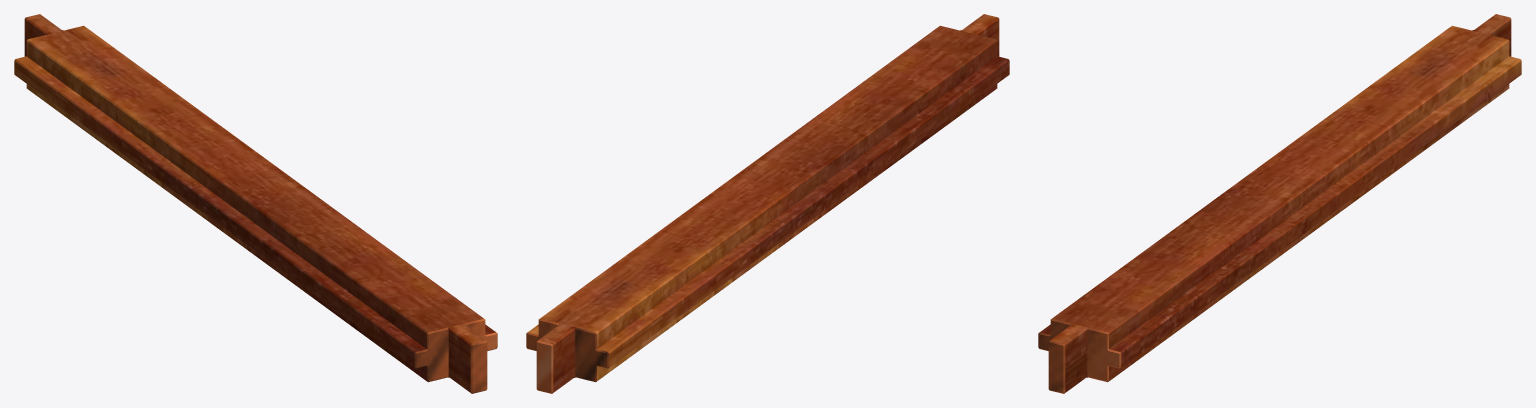
The model's file is SJ_J_zhongchougui_02.FBX.
3 renders of one model, left to right at view 1: azimuth 30°, elevation 25°; view 2: azimuth 150°, elevation 25°; view 3: azimuth 330°, elevation 25°, orthographic.
Visible parts, largest first — view 1: SJ_J_zhongchougui_02; view 2: SJ_J_zhongchougui_02; view 3: SJ_J_zhongchougui_02.
Boxes of the visible parts, left/top/right/bottom form: SJ_J_zhongchougui_02: left=14, top=14, right=497, bottom=393; SJ_J_zhongchougui_02: left=526, top=14, right=1009, bottom=393; SJ_J_zhongchougui_02: left=1038, top=14, right=1521, bottom=393.
Bounding box in the file's own units: 4.17 × 2.4 × 39.
